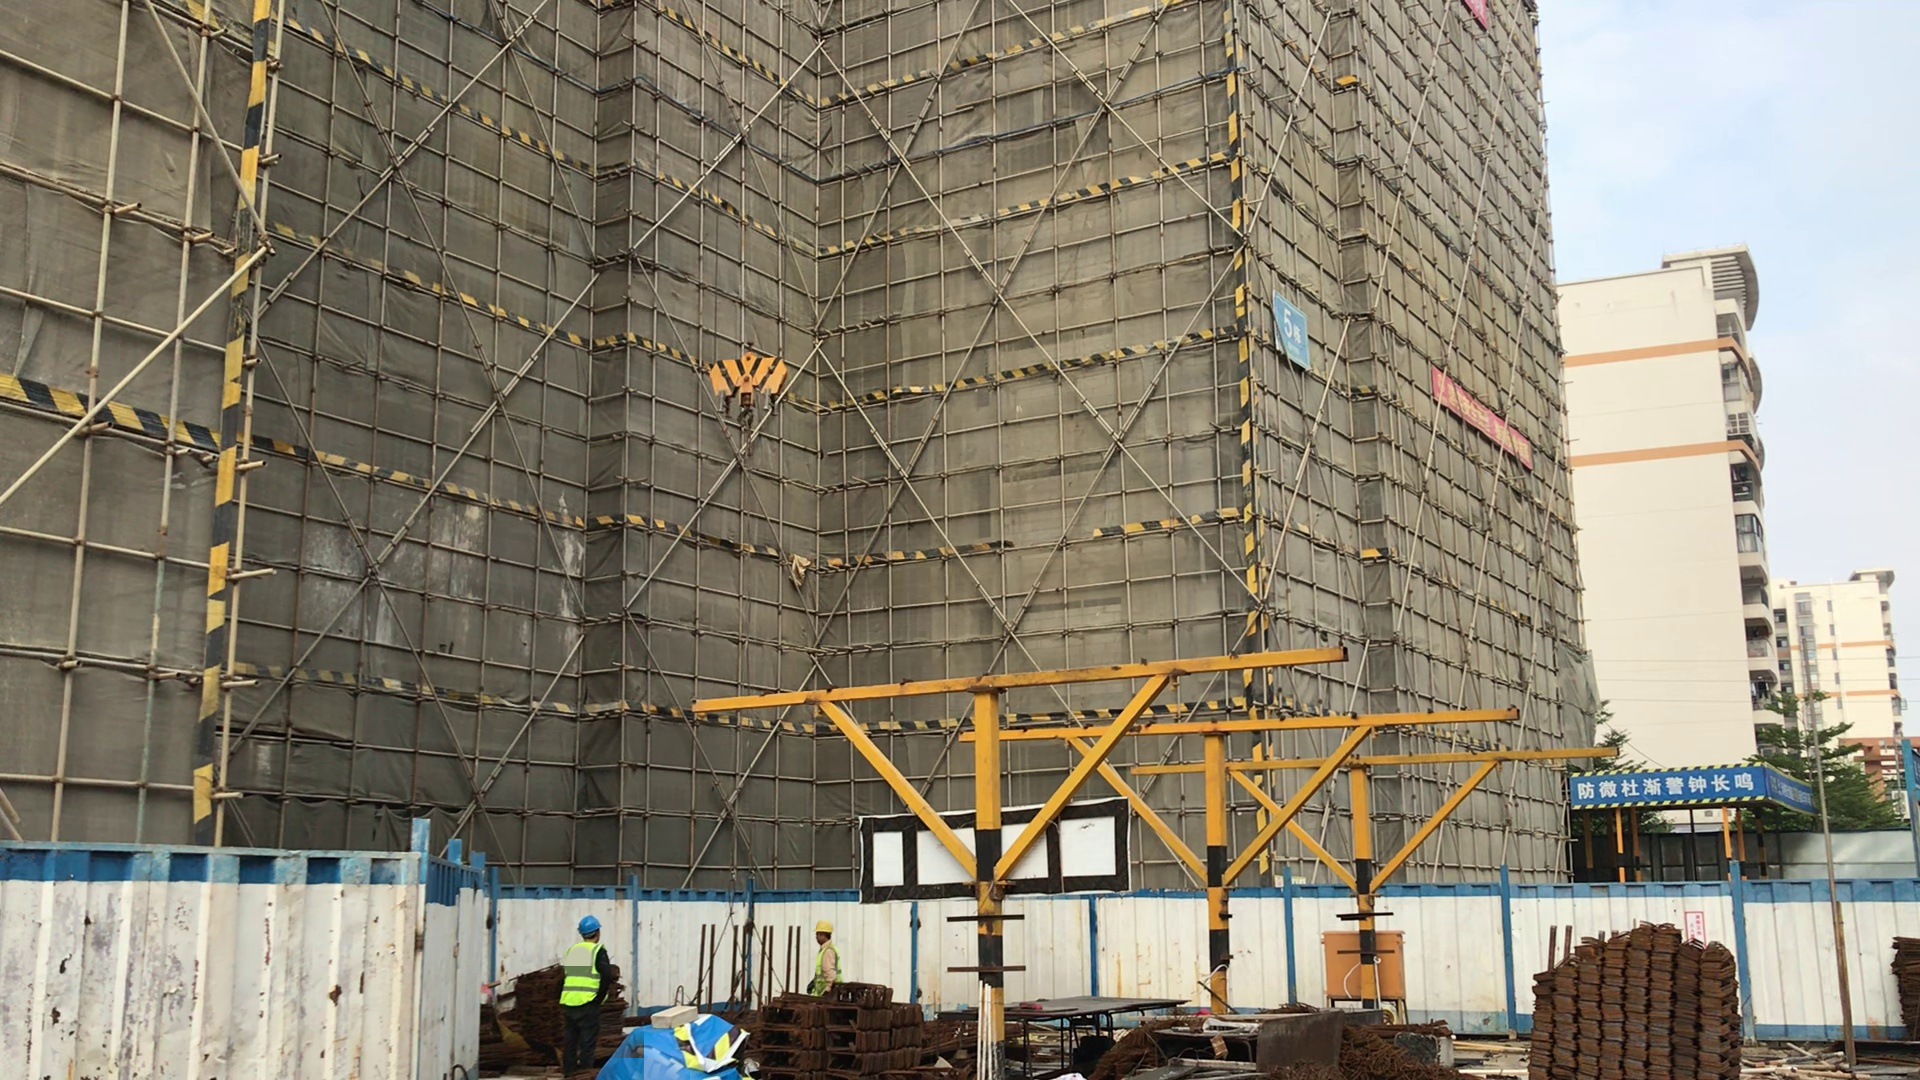ebox: (1325, 926, 1408, 1001)
helmet: (564, 907, 610, 939), (806, 911, 841, 944)
hook: (705, 337, 789, 428)
person: (559, 894, 614, 1080), (814, 922, 847, 1010)
slogan: (1570, 762, 1760, 799)
vest: (565, 943, 606, 1005), (815, 946, 833, 984)
